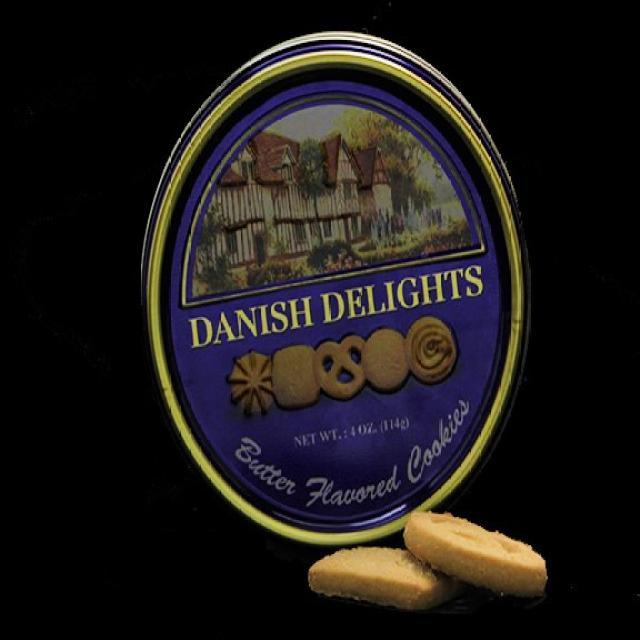Cookie: (114, 30, 520, 540), (410, 508, 550, 590), (309, 542, 435, 614)
